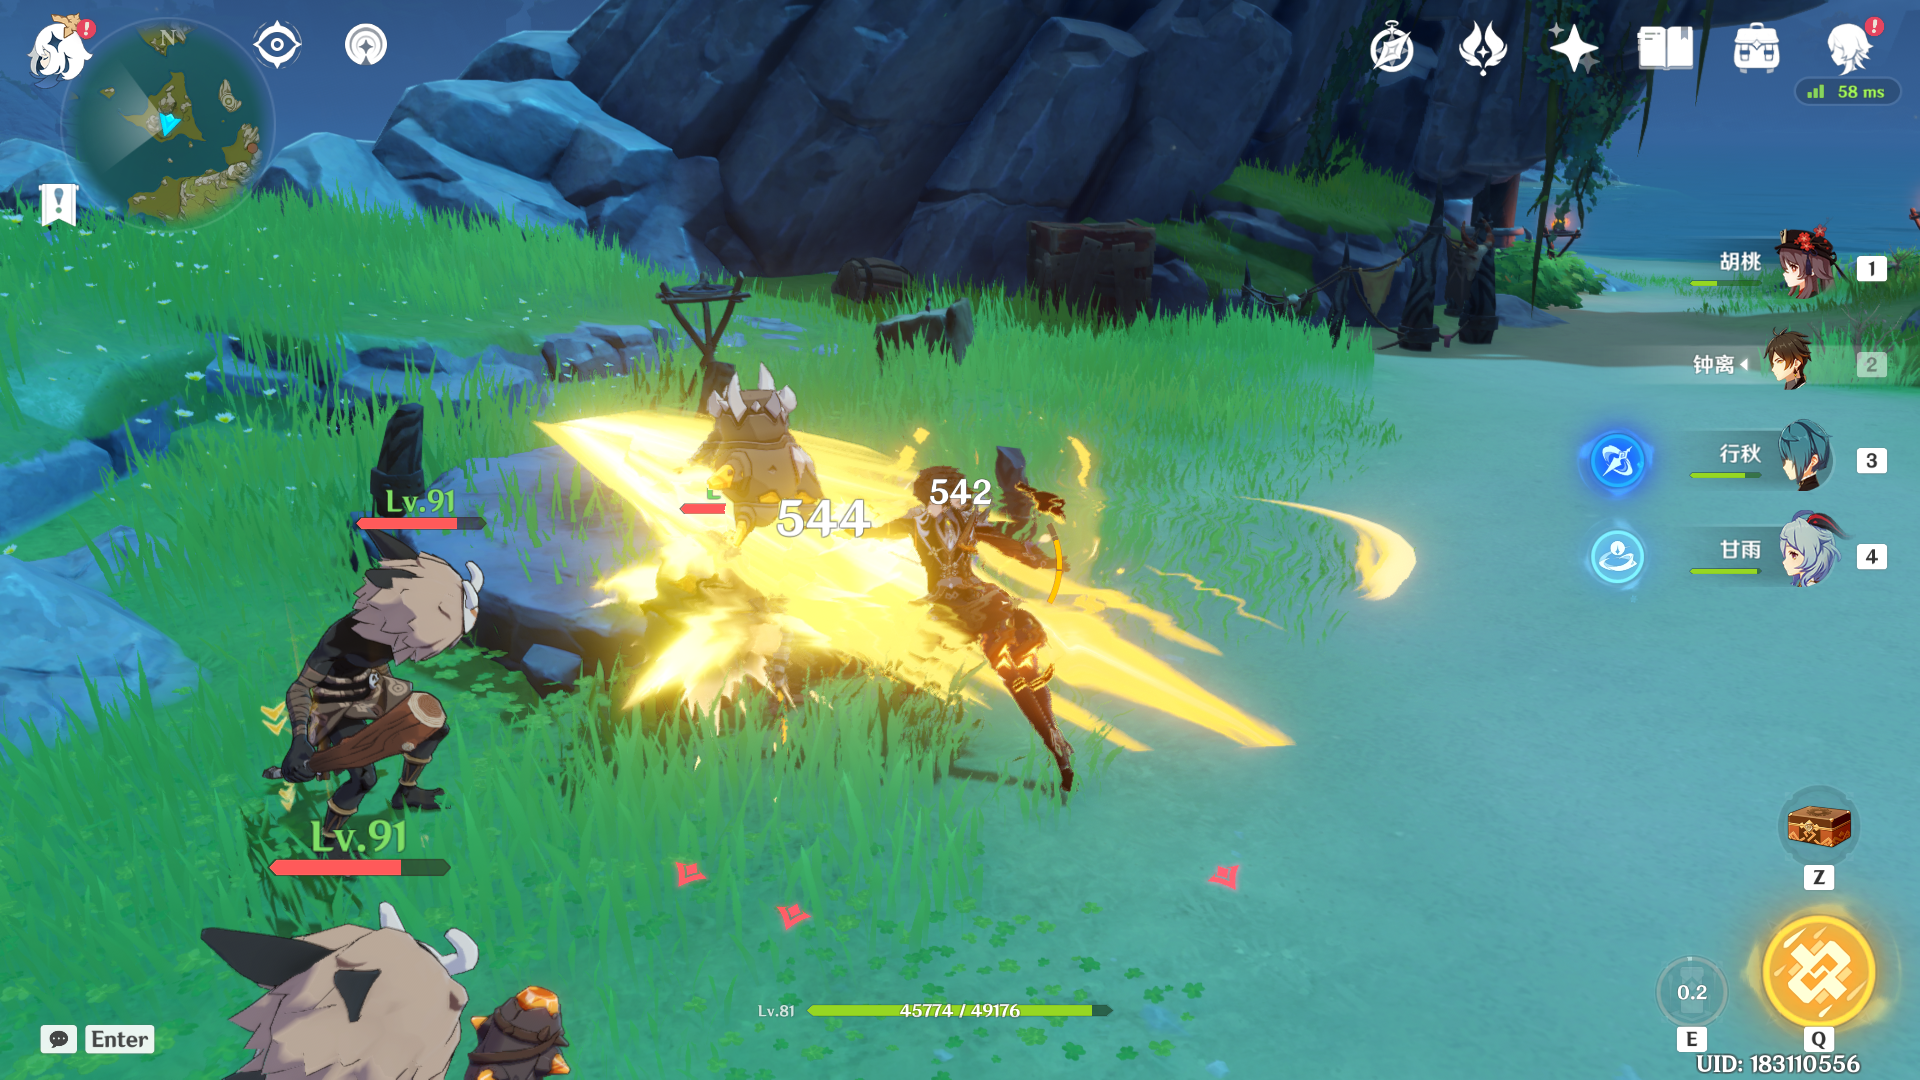character: (829, 435, 1122, 806)
hili: (240, 398, 541, 858)
